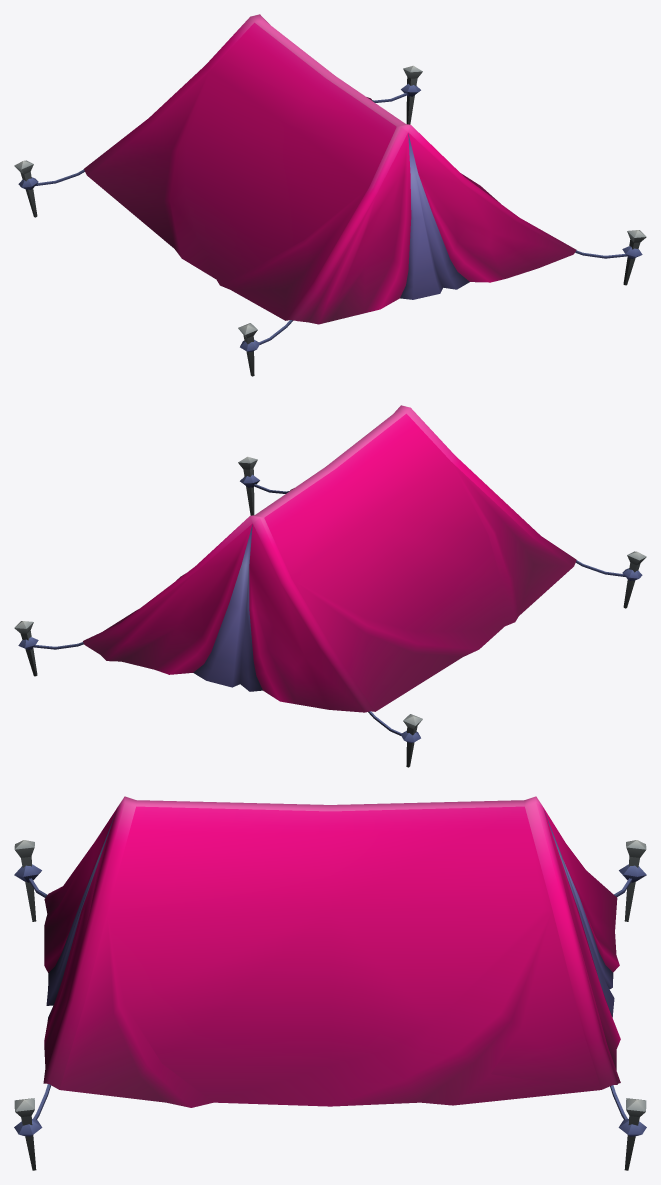
The model's file is Tent_2B.fbx.
3 renders of one model, top to bottom at view 1: azimuth 30°, elevation 25°; view 2: azimuth 150°, elevation 25°; view 3: azimuth 270°, elevation 25°, orthographic. The views are drawn at different scales.
Parts seen in each view (by area): view 1: Tent_2B; view 2: Tent_2B; view 3: Tent_2B.
Boxes of the visible parts, x1,y1,x2,y2 form: Tent_2B: (14, 14, 646, 376); Tent_2B: (14, 405, 646, 767); Tent_2B: (14, 796, 646, 1170).
Bounding box in the file's own units: 418 × 179 × 418.
